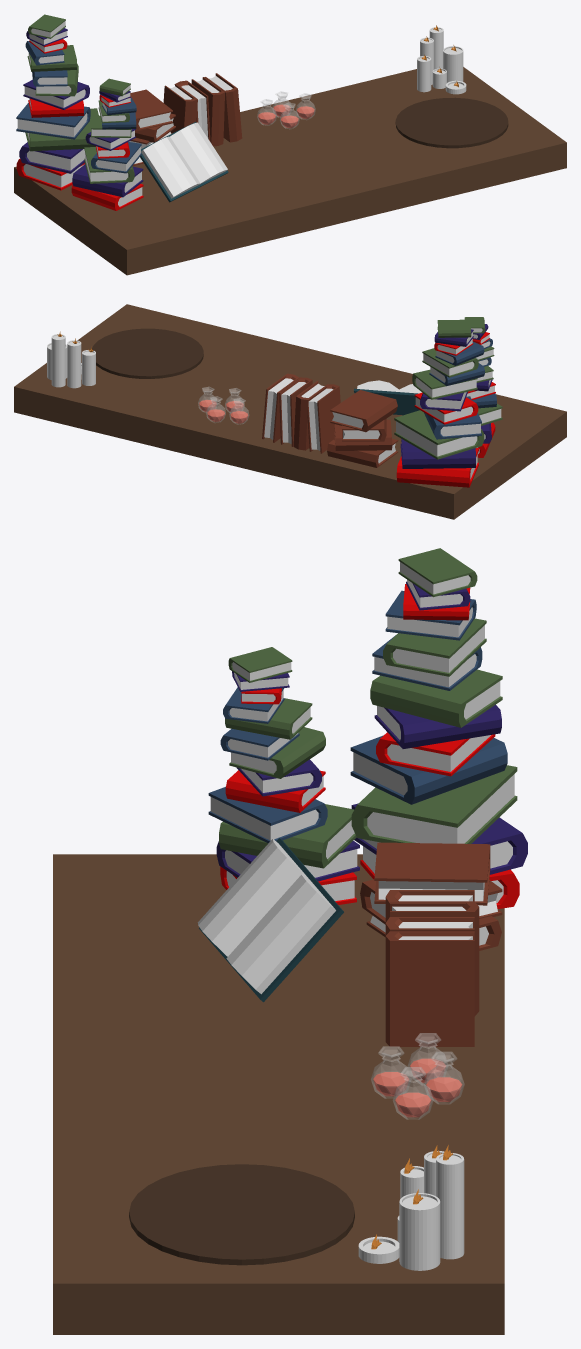
Rendered from alchemists_table.gltf.
3 views of the same model, one above another, from view 1: azimuth 30°, elevation 25°; view 2: azimuth 150°, elevation 25°; view 3: azimuth 270°, elevation 25° (orthographic). The views are drawn at different scales.
Visible parts, largest first — view 1: Table, stacked_books, stacked_books.001, clynder, open_book, Cube.004, Cube.005, Cube.008, Cube.006, Cube.007, Cylinder.002, Cylinder (+5 smaller); view 2: Table, stacked_books, clynder, stacked_books.001, Cube.004, Cube.006, Cube.005, Cube.008, open_book, Cube.007, Cube.001, Cube.002 (+7 smaller); view 3: Table, stacked_books, stacked_books.001, clynder, open_book, Cube.008, Cube.004, Cylinder.002, Cylinder.005, Cube.007, potionBottle, potionBottle.002 (+5 smaller).
Part boxes in pixels (left/top/right/bottom): Table: left=14, top=67, right=566, bottom=275; stacked_books: left=16, top=14, right=98, bottom=190; stacked_books.001: left=71, top=78, right=143, bottom=210; clynder: left=395, top=97, right=508, bottom=148; open_book: left=140, top=122, right=228, bottom=202; Cube.004: left=130, top=89, right=172, bottom=131; Cube.005: left=191, top=77, right=224, bottom=146; Cube.008: left=204, top=73, right=242, bottom=142; Cube.006: left=163, top=85, right=197, bottom=133; Cube.007: left=174, top=80, right=210, bottom=141; Cylinder.002: left=443, top=46, right=463, bottom=82; Cylinder: left=417, top=56, right=431, bottom=92; Table: left=14, top=304, right=566, bottom=519; stacked_books: left=394, top=319, right=484, bottom=487; clynder: left=92, top=328, right=203, bottom=378; stacked_books.001: left=464, top=317, right=502, bottom=457; Cube.004: left=330, top=390, right=397, bottom=432; Cube.006: left=307, top=384, right=340, bottom=453; Cube.005: left=279, top=377, right=312, bottom=446; Cube.008: left=262, top=373, right=299, bottom=442; open_book: left=354, top=380, right=421, bottom=415; Cube.007: left=293, top=381, right=328, bottom=450; Cube.001: left=327, top=438, right=398, bottom=467; Cube.002: left=334, top=419, right=392, bottom=450; Table: left=53, top=854, right=504, bottom=1334; stacked_books: left=350, top=548, right=527, bottom=908; stacked_books.001: left=208, top=647, right=359, bottom=904; clynder: left=129, top=1164, right=354, bottom=1265; open_book: left=197, top=838, right=343, bottom=1002; Cube.008: left=385, top=931, right=474, bottom=1046; Cube.004: left=374, top=842, right=490, bottom=905; Cylinder.002: left=399, top=1193, right=440, bottom=1270; Cylinder.005: left=436, top=1153, right=464, bottom=1259; Cube.007: left=390, top=901, right=479, bottom=1016; potionBottle: left=393, top=1067, right=433, bottom=1119; potionBottle.002: left=424, top=1052, right=464, bottom=1103.
Size of the model in its own units: 1.85 by 0.6965 by 0.8409.
